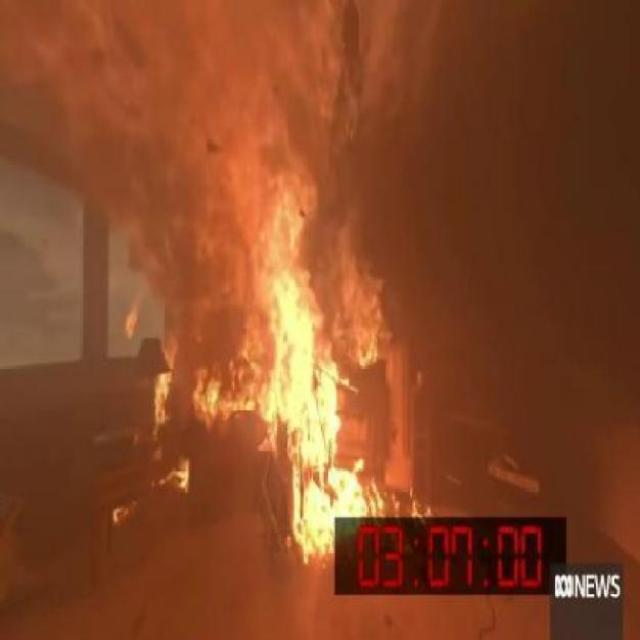smoke: (204, 187, 387, 563), (145, 340, 180, 425), (152, 444, 196, 504), (116, 283, 146, 348)
